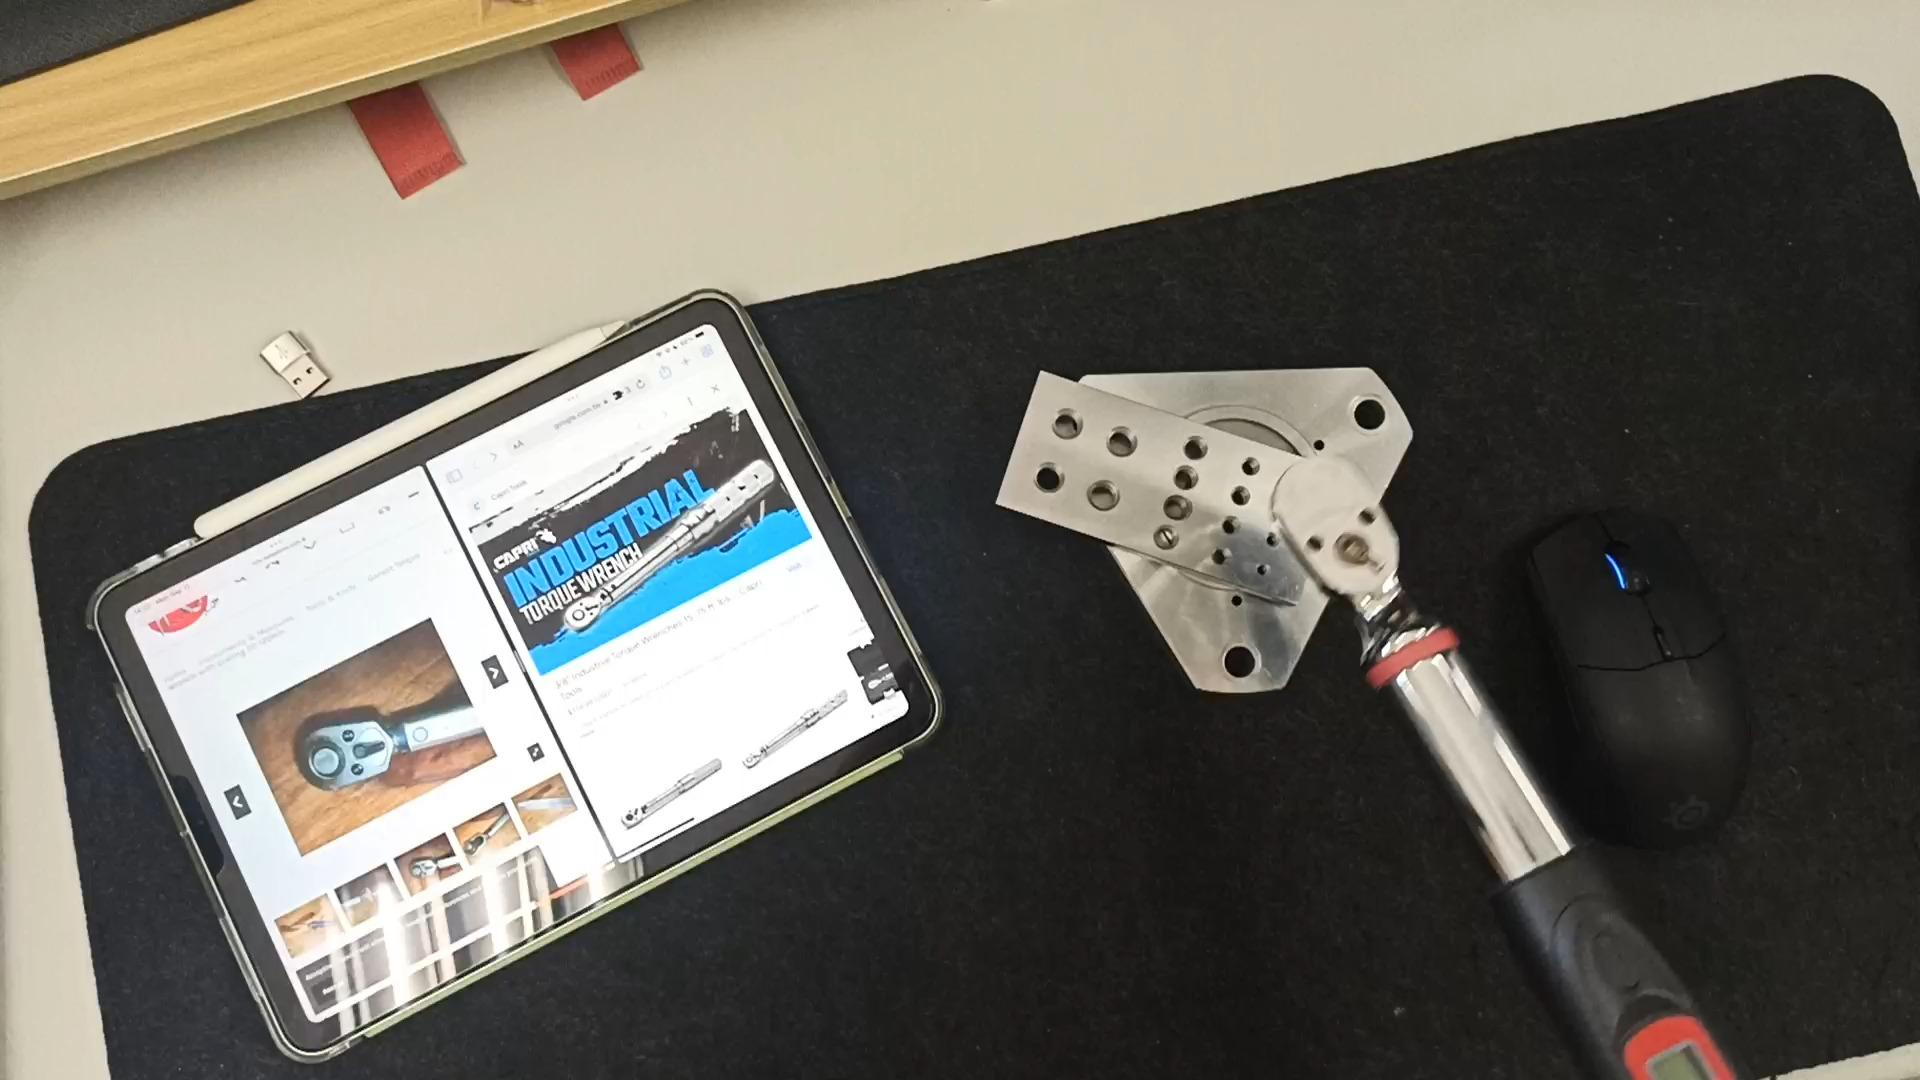Tool: (1273, 446, 1433, 620), (295, 713, 390, 786), (559, 593, 603, 636)
hole: (1200, 638, 1270, 684), (1335, 393, 1399, 436), (1038, 404, 1092, 439), (1019, 459, 1073, 495), (1098, 425, 1149, 458), (1077, 479, 1127, 512), (1149, 491, 1197, 520), (1167, 458, 1212, 485), (1180, 431, 1224, 458), (1142, 521, 1184, 546), (1221, 481, 1262, 506), (1230, 450, 1271, 473), (1238, 555, 1276, 576), (1213, 512, 1250, 533), (1205, 537, 1241, 558), (1265, 526, 1286, 554)
